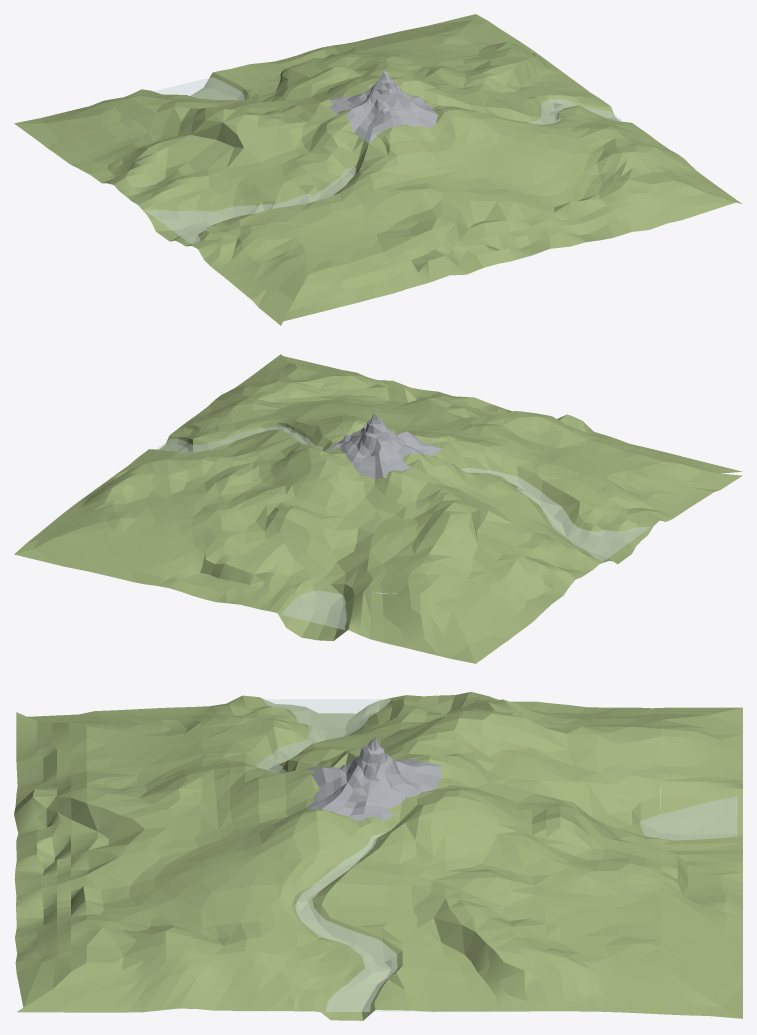
File: Mountain.fbx
3 views of the same model, one above another, from view 1: azimuth 30°, elevation 25°; view 2: azimuth 150°, elevation 25°; view 3: azimuth 270°, elevation 25° (orthographic). The views are drawn at different scales.
Parts seen in each view (by area): view 1: polySurface11; view 2: polySurface11; view 3: polySurface11.
Part boxes in pixels (x1,y1,x2,y2): polySurface11: [14, 14, 742, 325]; polySurface11: [14, 354, 742, 663]; polySurface11: [14, 692, 742, 1020].
Bounding box in the file's own units: 224 × 50.86 × 225.
